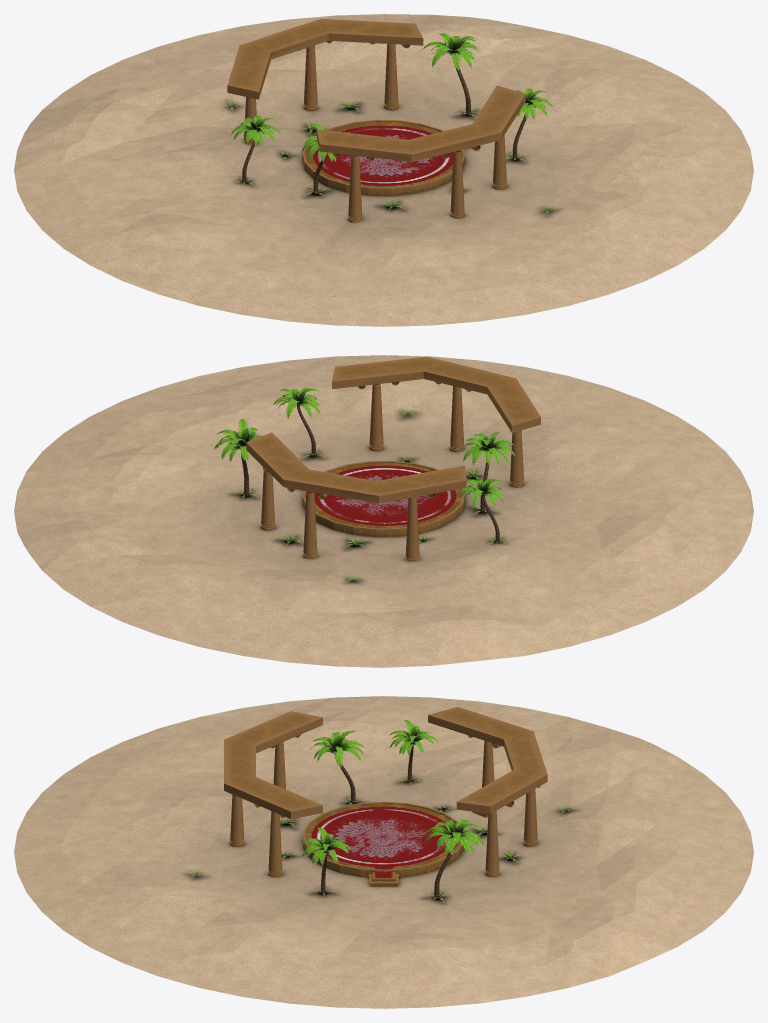
The model's file is Stage3.fbx.
The picture shows the model from 3 angles, top to bottom: view 1: azimuth 30°, elevation 25°; view 2: azimuth 150°, elevation 25°; view 3: azimuth 270°, elevation 25°; orthographic projection.
Parts seen in each view (by area): view 1: Main_Base1_Main_Base_0, Pillers, Stage1, Base_Stage_0 (×3), Trees, Lower_Leaves_Stage_0; view 2: Main_Base1_Main_Base_0, Pillers, Stage1, Base_Stage_0 (×3), Trees, Lower_Leaves_Stage_0; view 3: Main_Base1_Main_Base_0, Pillers, Stage1, Base_Stage_0 (×3), Trees, Lower_Leaves_Stage_0.
Part boxes in pixels (x1,y1,x2,y2): Main_Base1_Main_Base_0: (14, 14, 753, 326); Pillers: (227, 18, 525, 222); Stage1: (302, 119, 470, 196); Base_Stage_0 (×3): (231, 33, 552, 182); Trees: (301, 123, 345, 194); Lower_Leaves_Stage_0: (226, 100, 554, 214); Main_Base1_Main_Base_0: (14, 355, 753, 667); Pillers: (246, 356, 540, 561); Stage1: (302, 460, 465, 537); Base_Stage_0 (×3): (213, 387, 503, 542); Trees: (463, 432, 515, 512); Lower_Leaves_Stage_0: (231, 408, 507, 582); Main_Base1_Main_Base_0: (14, 696, 753, 1008); Pillers: (224, 707, 547, 876); Stage1: (303, 801, 464, 886); Base_Stage_0 (×3): (301, 720, 484, 898); Trees: (310, 730, 364, 803); Lower_Leaves_Stage_0: (188, 775, 577, 902).
Size of the model in its own units: 99.8 by 12.99 by 99.8.
2 materials, 2 textured.
